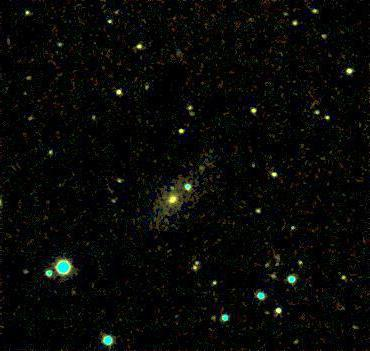star: (157, 170, 187, 200)
